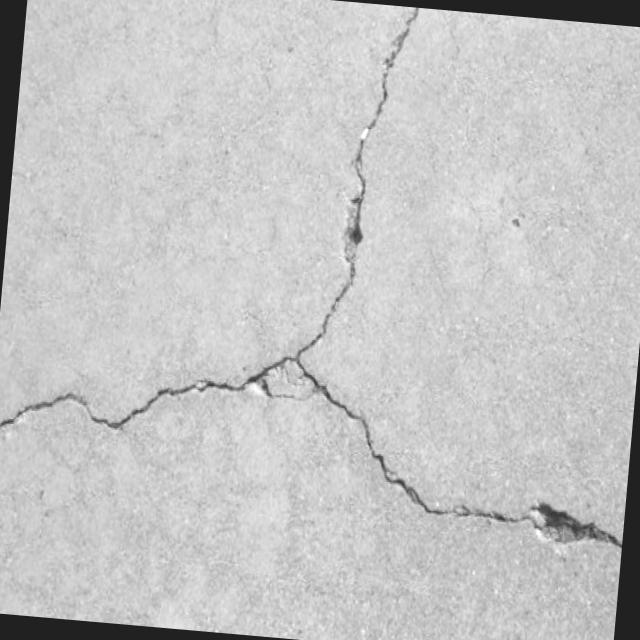crack: (0, 330, 388, 476), (290, 2, 419, 362), (372, 454, 628, 560)
